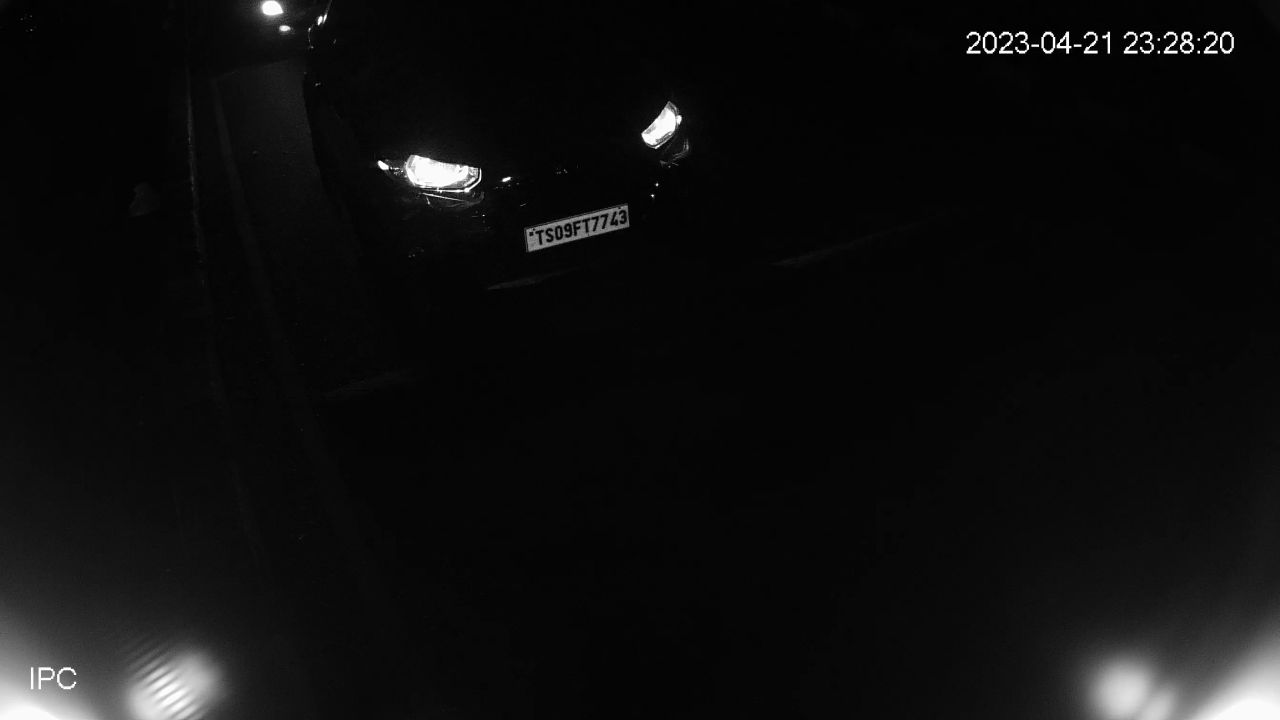license_plate: (520, 200, 634, 263)
